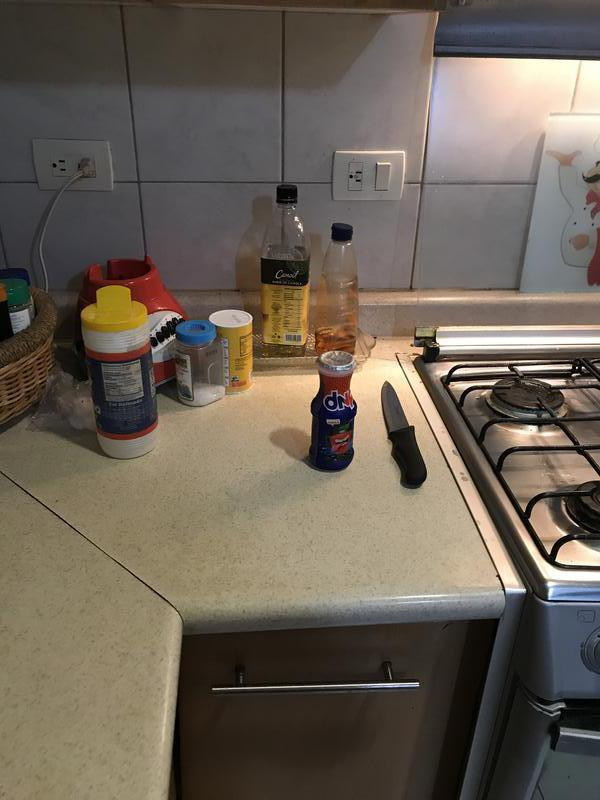danup: (306, 353, 357, 473)
